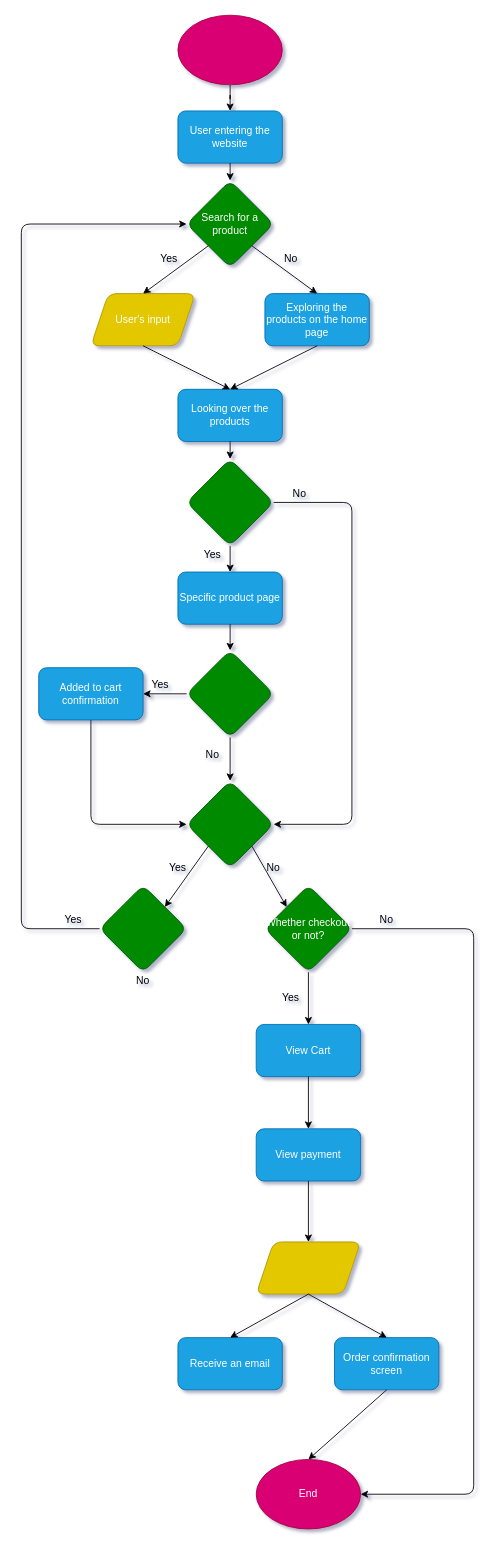
This 501x1549 diagram has some shape labels left out. The box of each missing label's shape, as (x1, y1, x2, y2) in pixels:
Add item to cart: (186, 649, 274, 737)
Continuing shopping?: (186, 780, 274, 868)
Enter payment info: (255, 1241, 361, 1294)
Search for a new product?: (99, 884, 187, 972)
Start: (177, 14, 282, 85)
Viewing a specific product: (186, 458, 274, 546)
